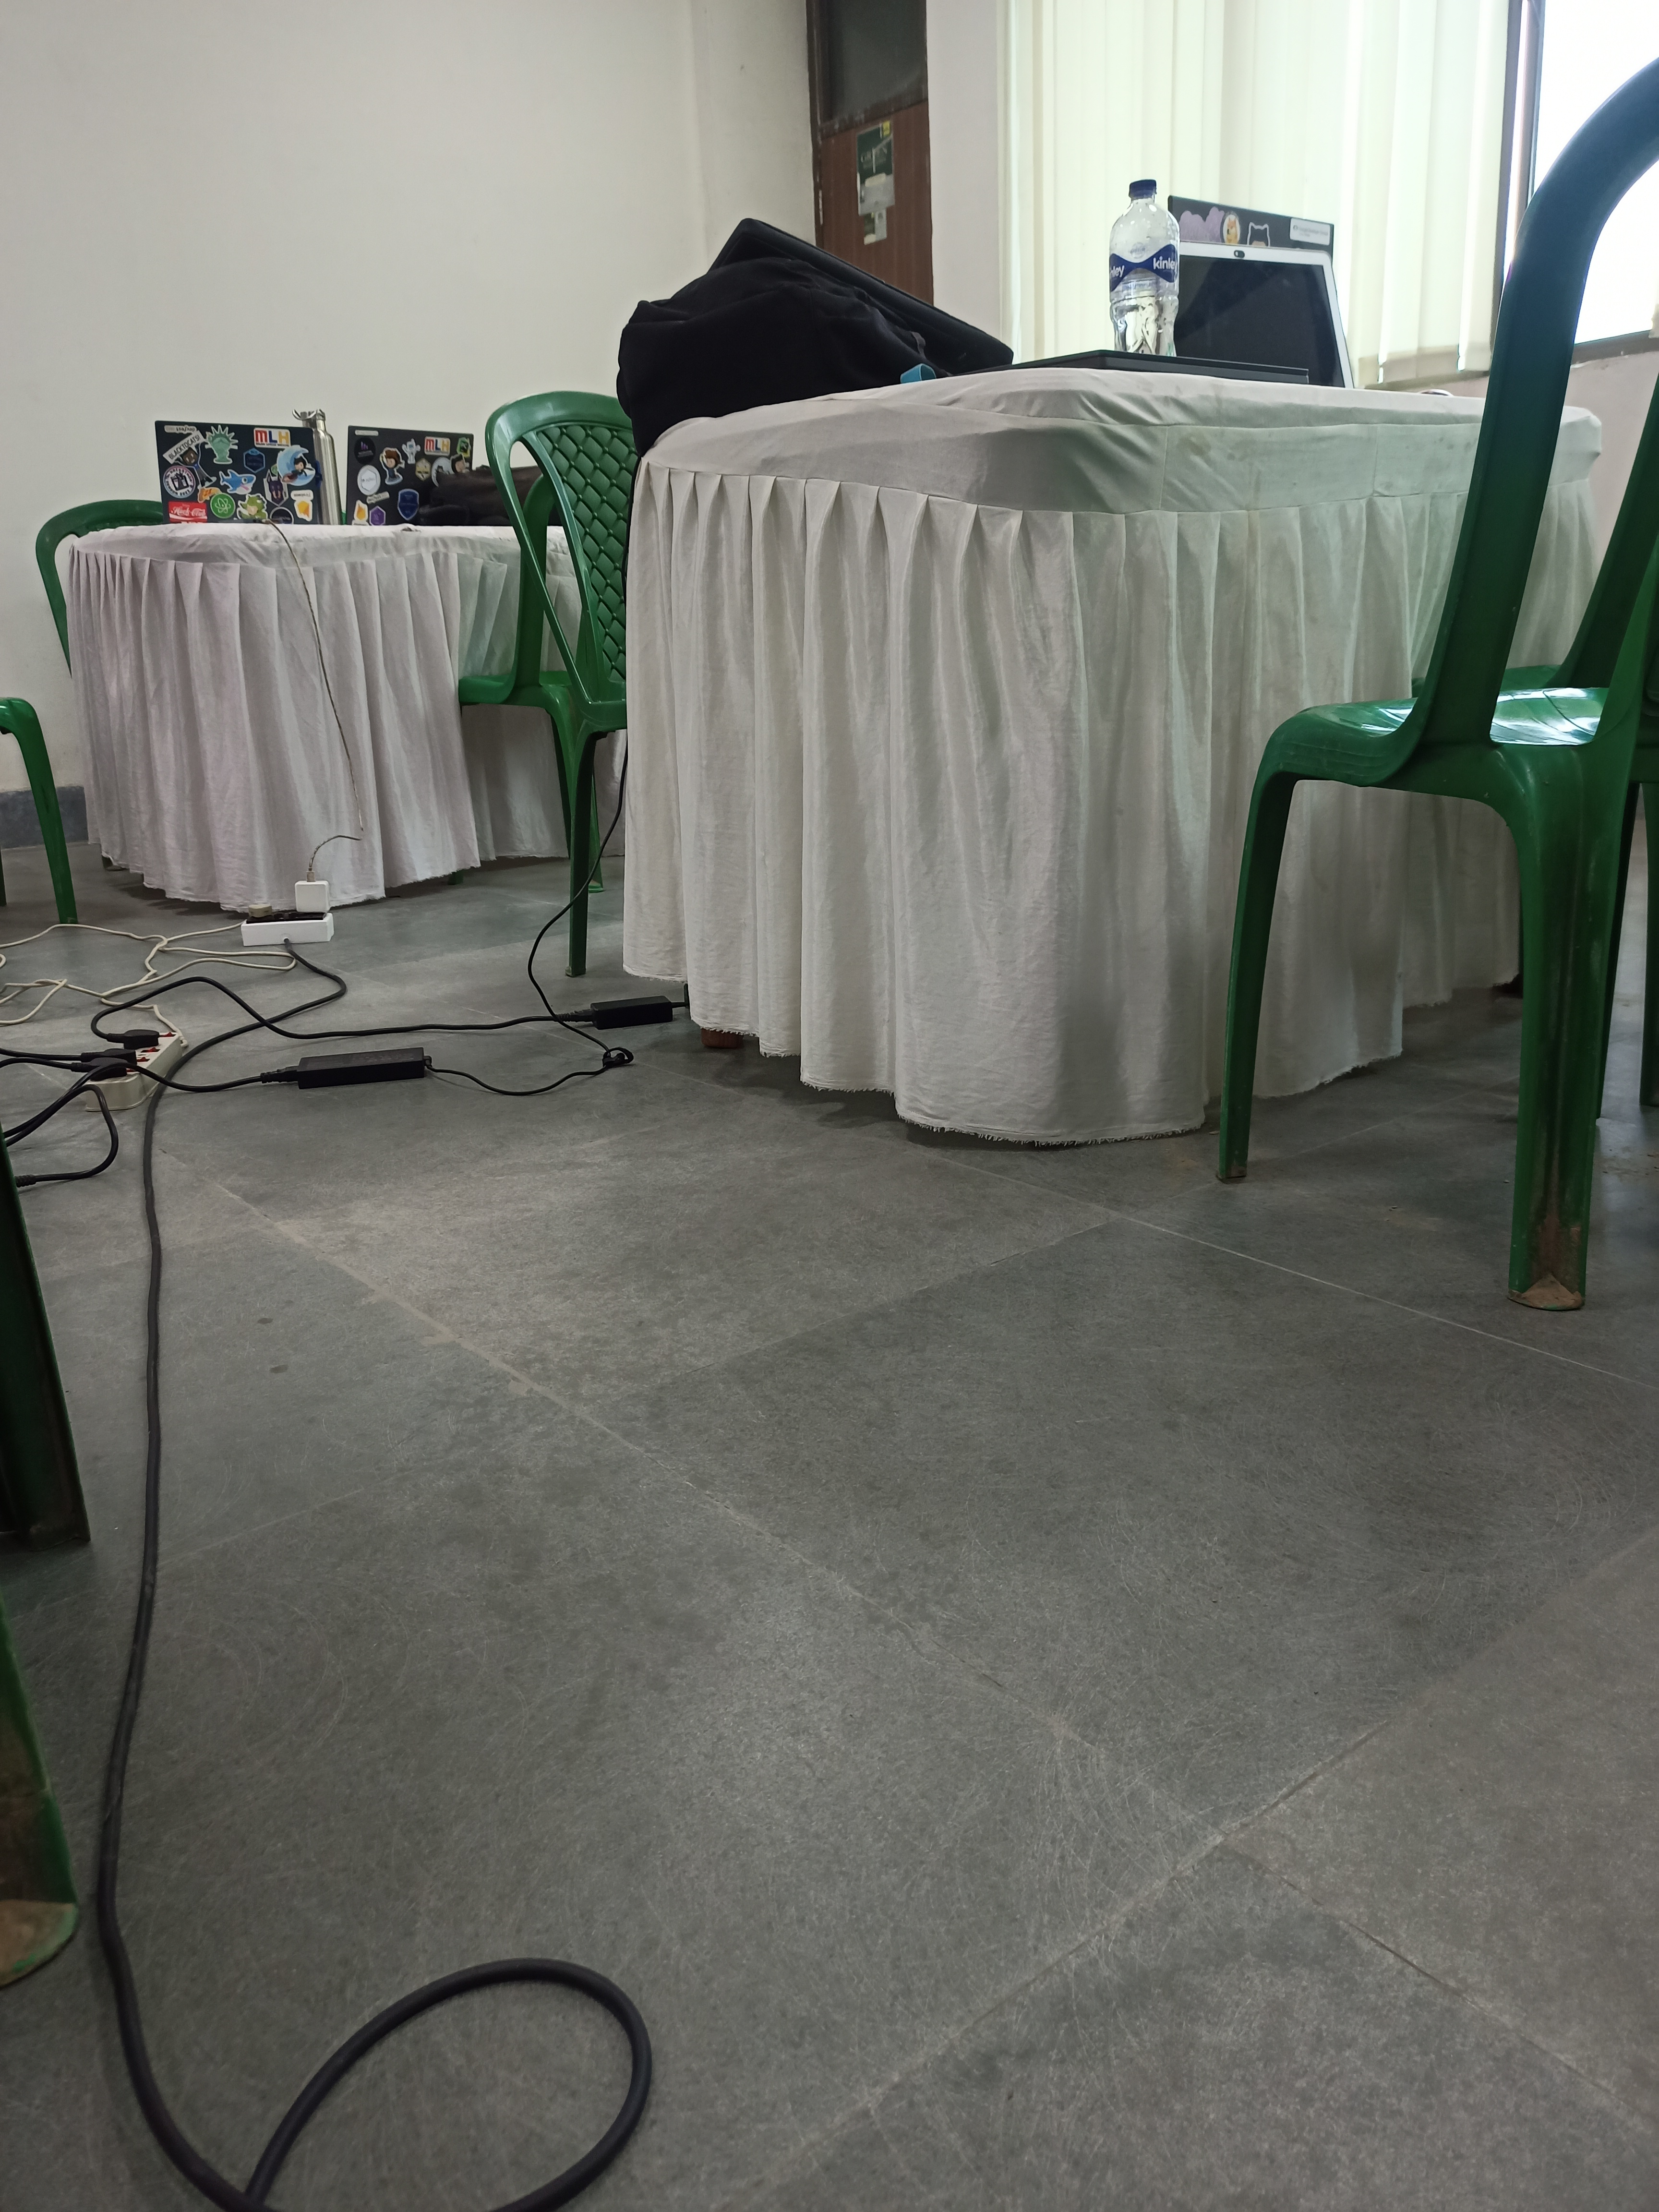Obstacle: (667, 456, 1659, 1146), (51, 540, 526, 914)
Path: (30, 928, 819, 2102)
